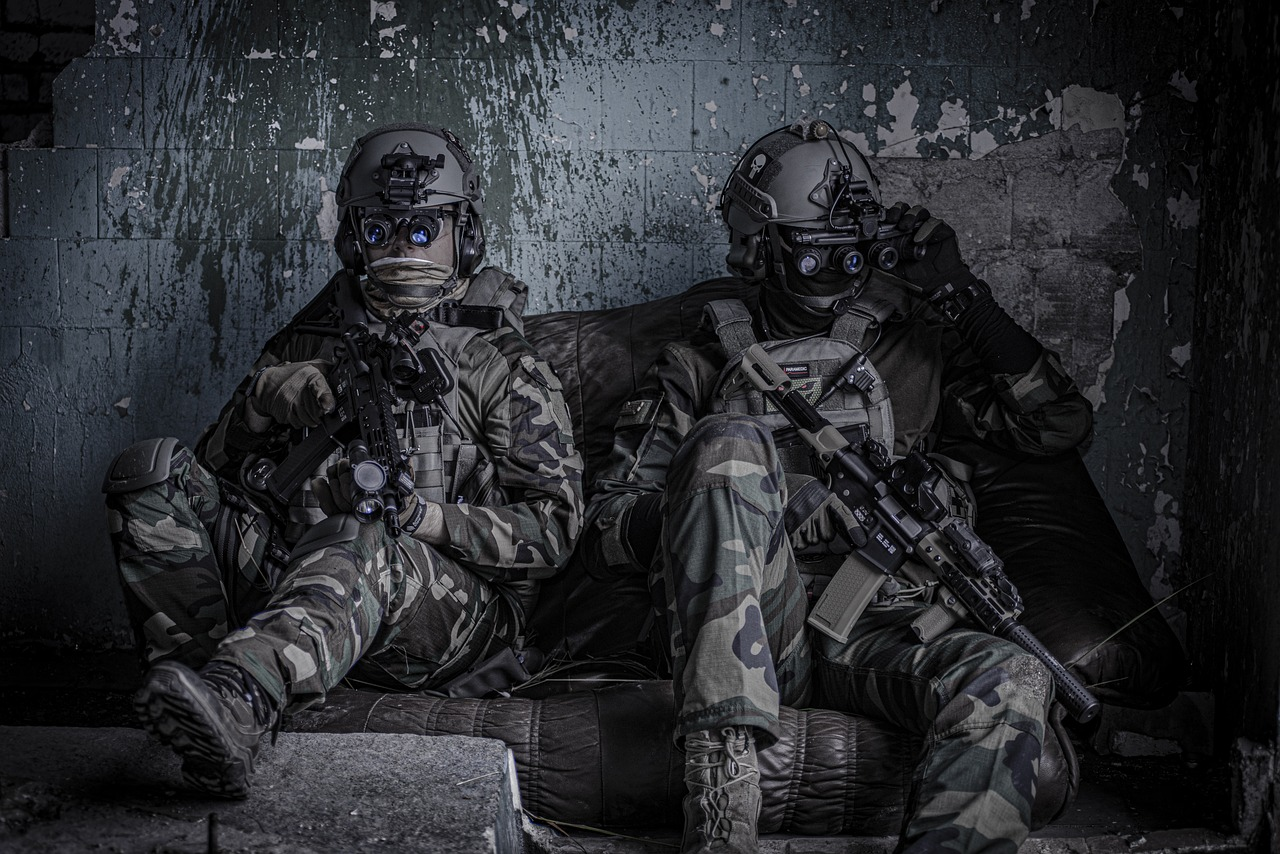gun: (703, 337, 1108, 728), (255, 315, 457, 542)
